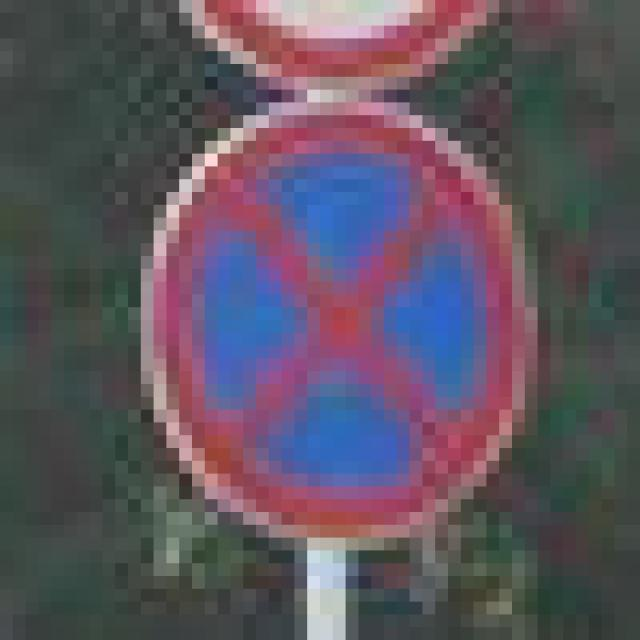no stopping or standing: (127, 90, 541, 551)
